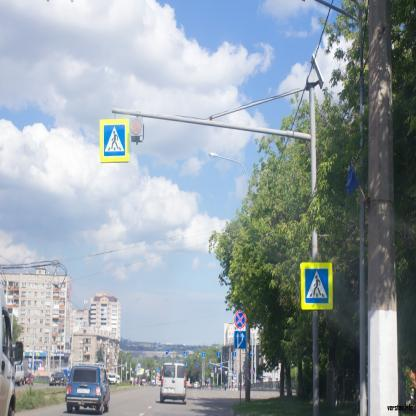road_sign: (298, 260, 334, 312), (97, 115, 129, 160), (231, 308, 252, 330), (231, 331, 250, 352)
